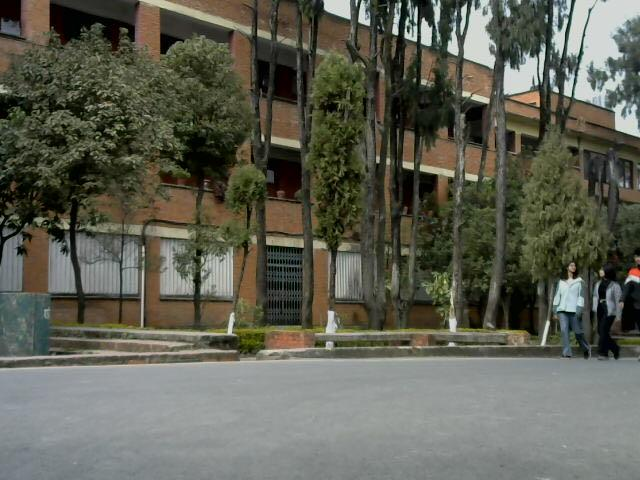Dustbin: (1, 290, 51, 360)
Person: (551, 261, 587, 362), (590, 254, 619, 359), (621, 244, 640, 355)
Road: (5, 361, 640, 480)
Tree: (0, 29, 187, 286), (163, 34, 270, 333), (304, 46, 382, 349), (447, 0, 512, 324)
